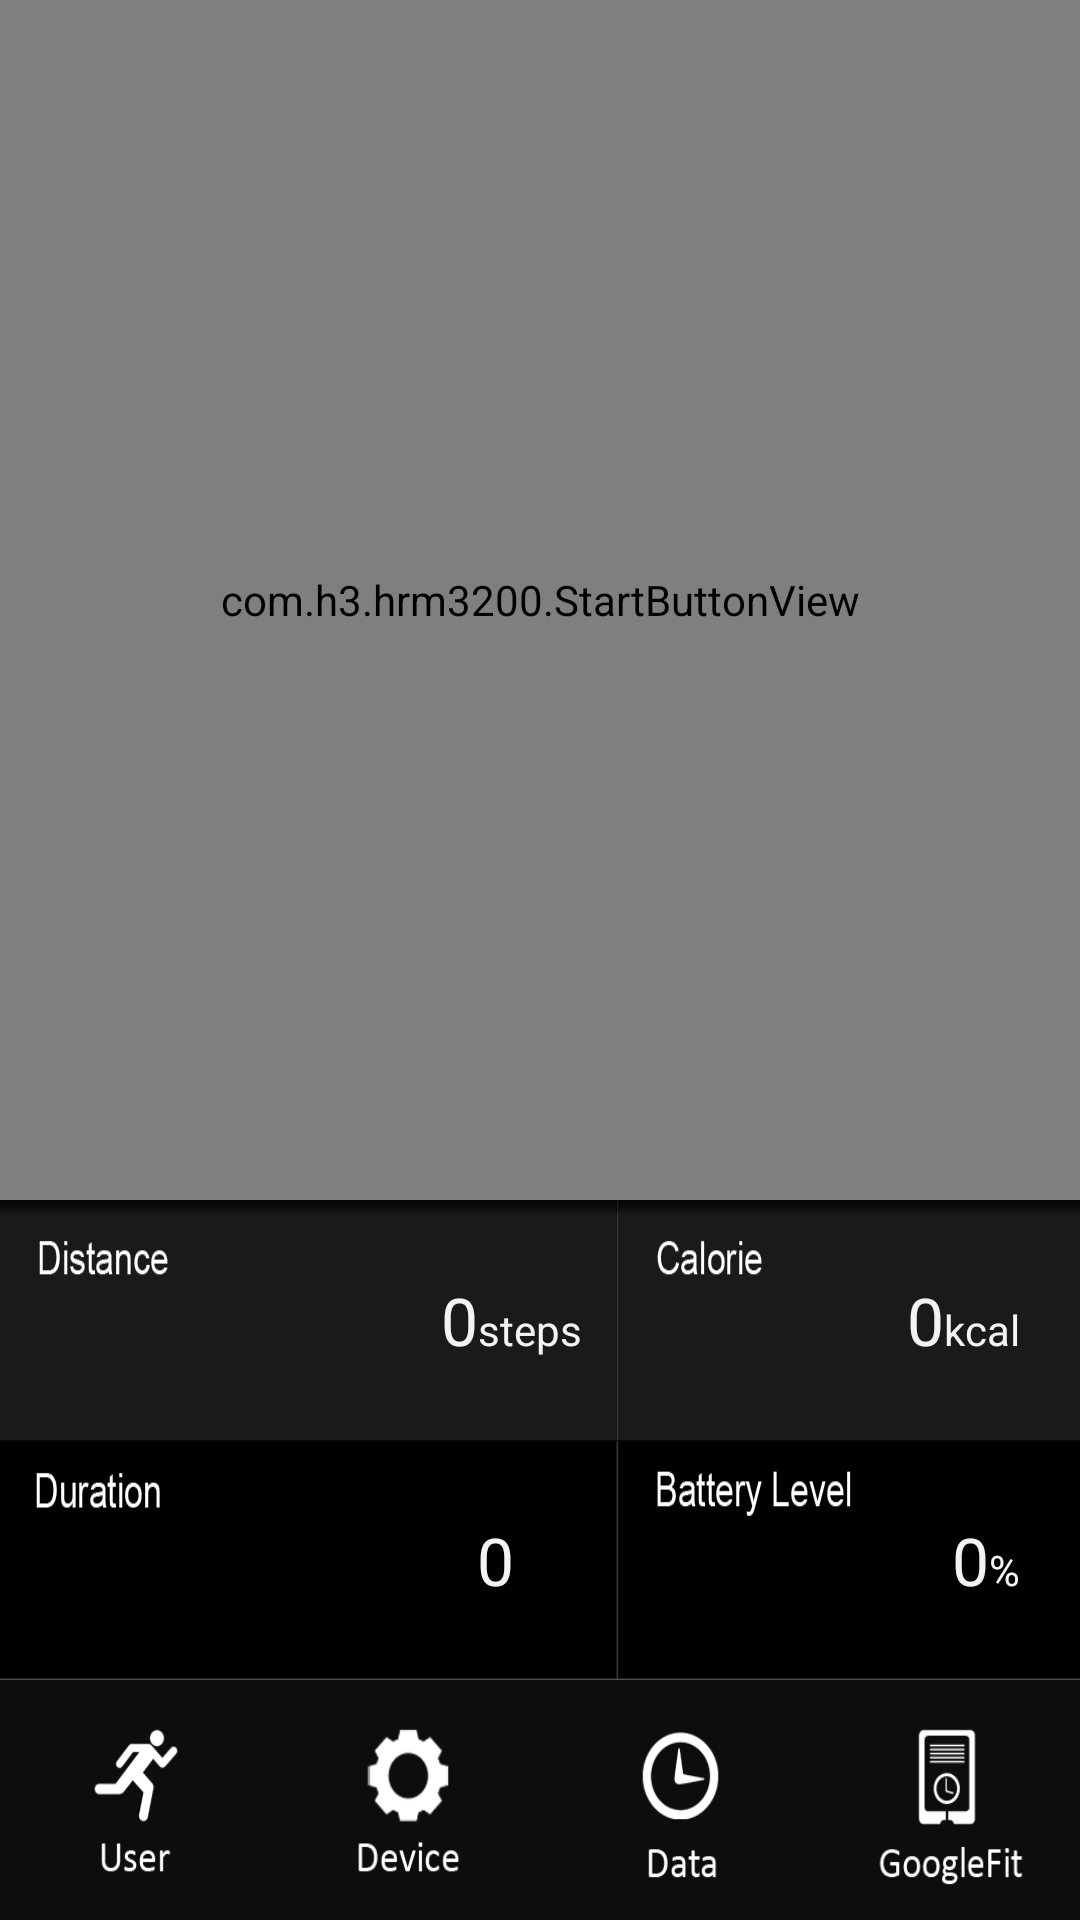

Icons on this 1080px x 1920px Android screen, each with the point to tap as (x,y):
setting: (408,1800)
